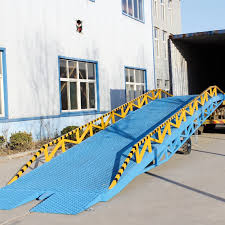Yard Ramp: (6, 85, 223, 216)
